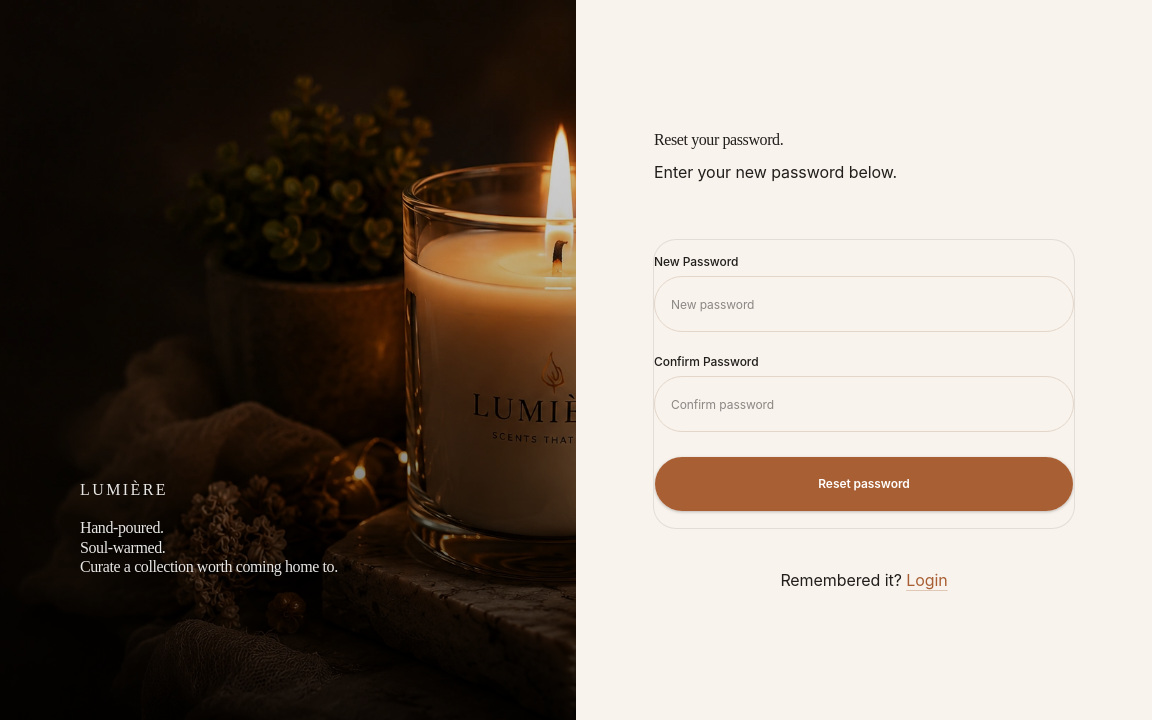
it: ResetPasswordPage › maps the backend message "Reset link has already been used" to a root-level error reading "Reset link has already been used"
The image size is (1152, 720).
Type "password123" into the password field with placeholder "New Password" at x=864, y=304, box [654,276,1074,332]
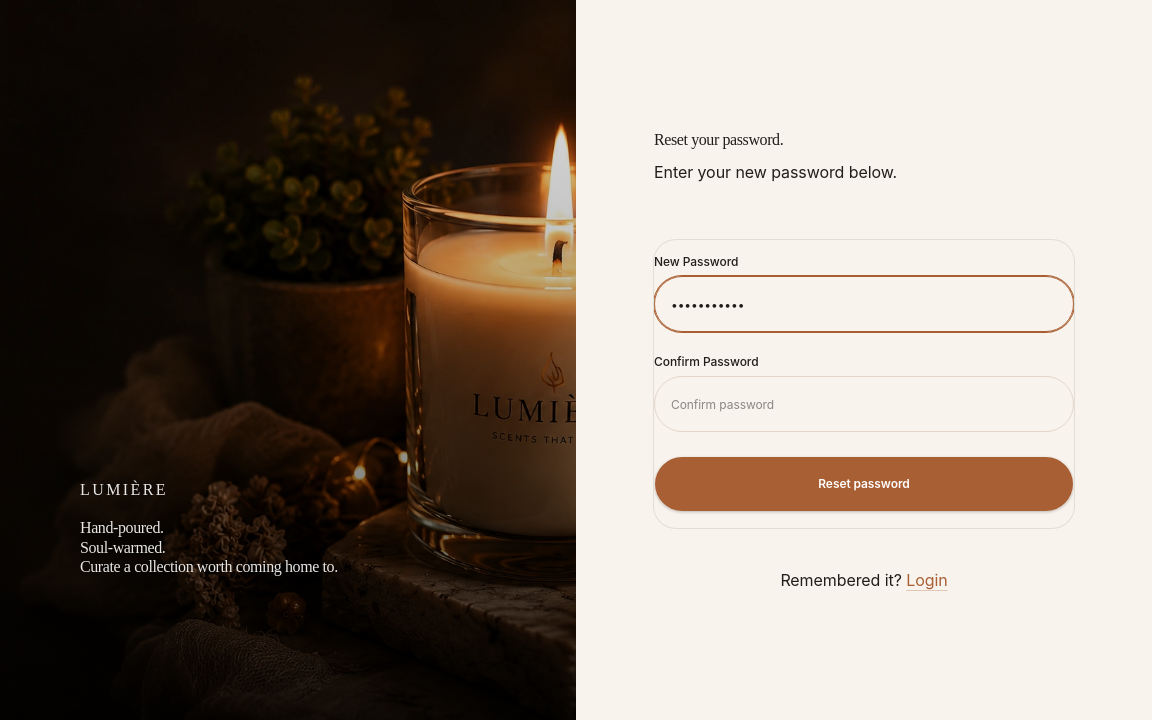
Type "password123" into the password field with placeholder "Confirm Password" at x=864, y=404, box [654,376,1074,432]
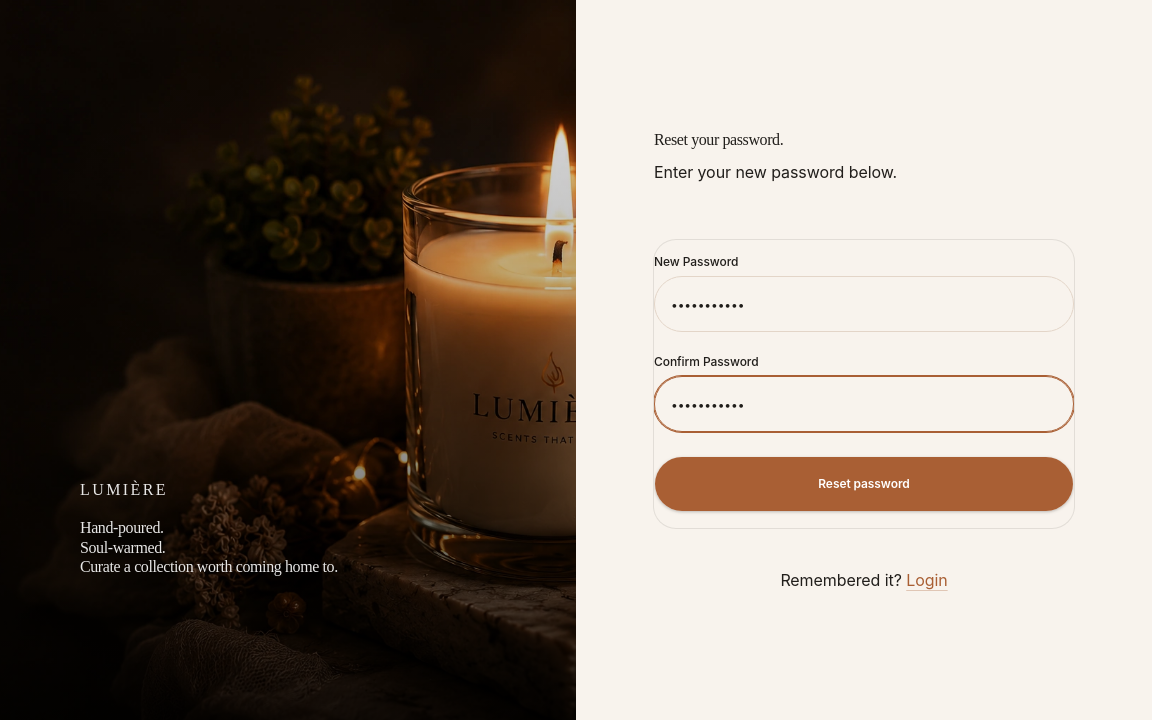
Click the button "Reset password" at x=864, y=484, box [654,456,1074,512]
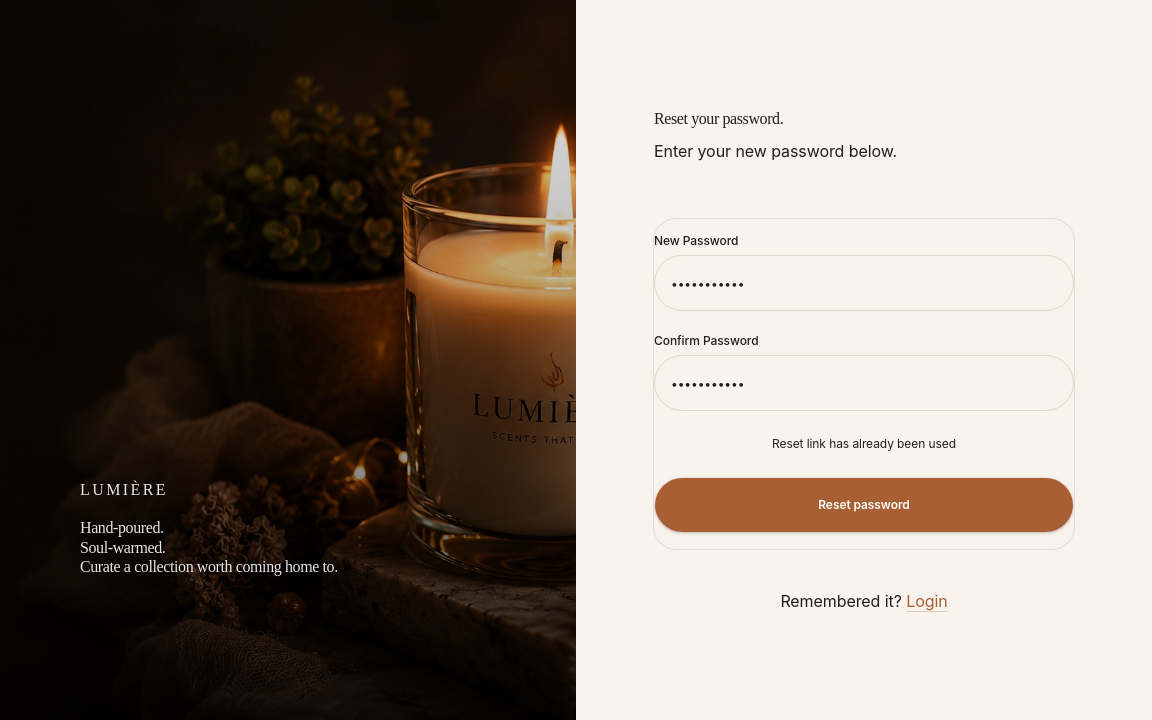
Expected: the text "Reset link has already been used" is shown, [772,436,956,451]
